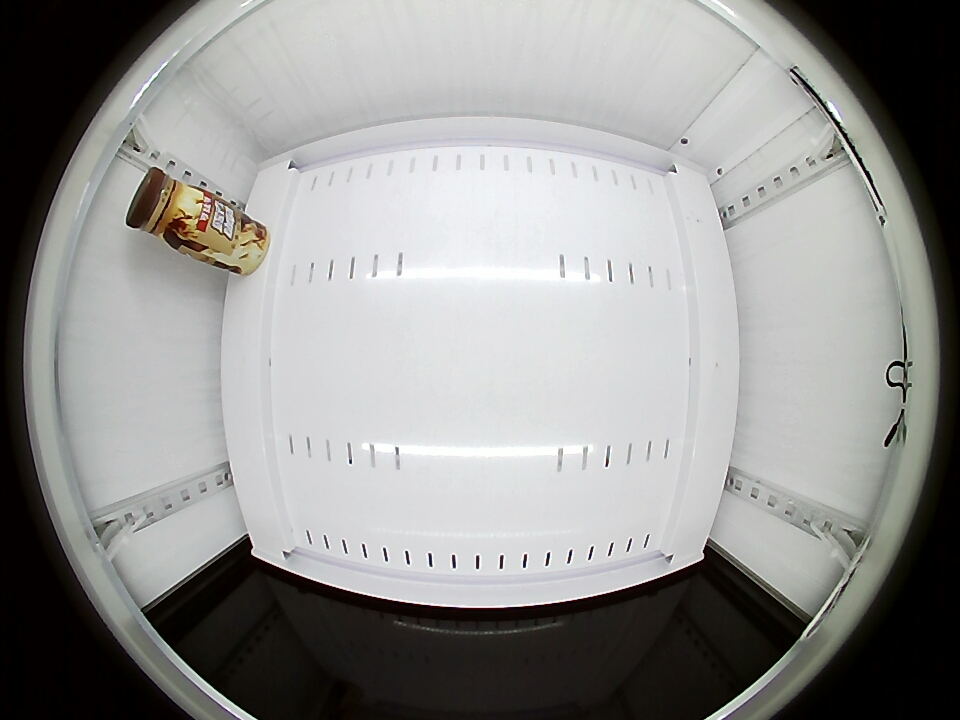lujikafei: (125, 168, 210, 253)
